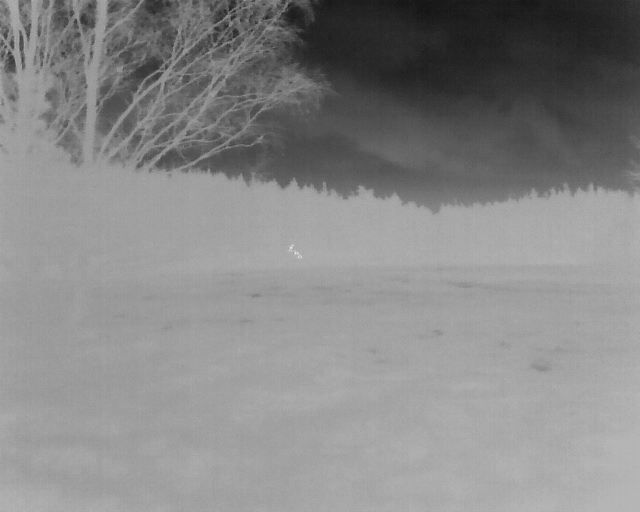Deer: (294, 249, 300, 255), (297, 254, 303, 259), (288, 247, 293, 252), (290, 244, 294, 247)
